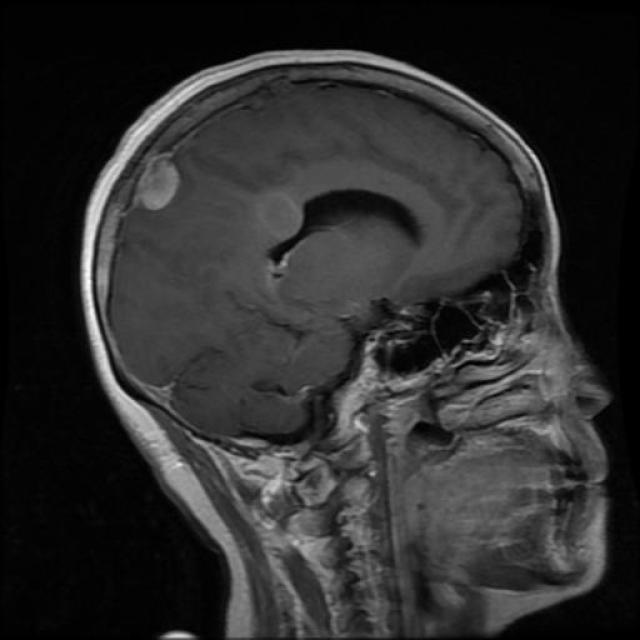glioma: (268, 191, 427, 321), (135, 156, 184, 212)
